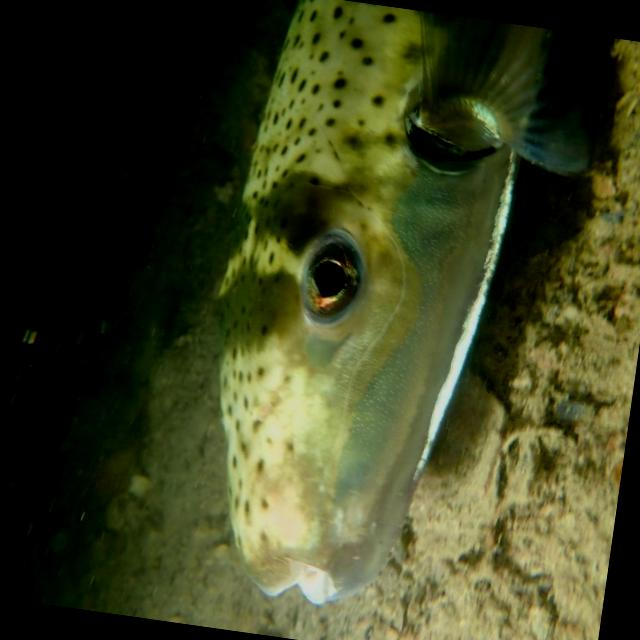Balon Baligi: (170, 0, 608, 637)
